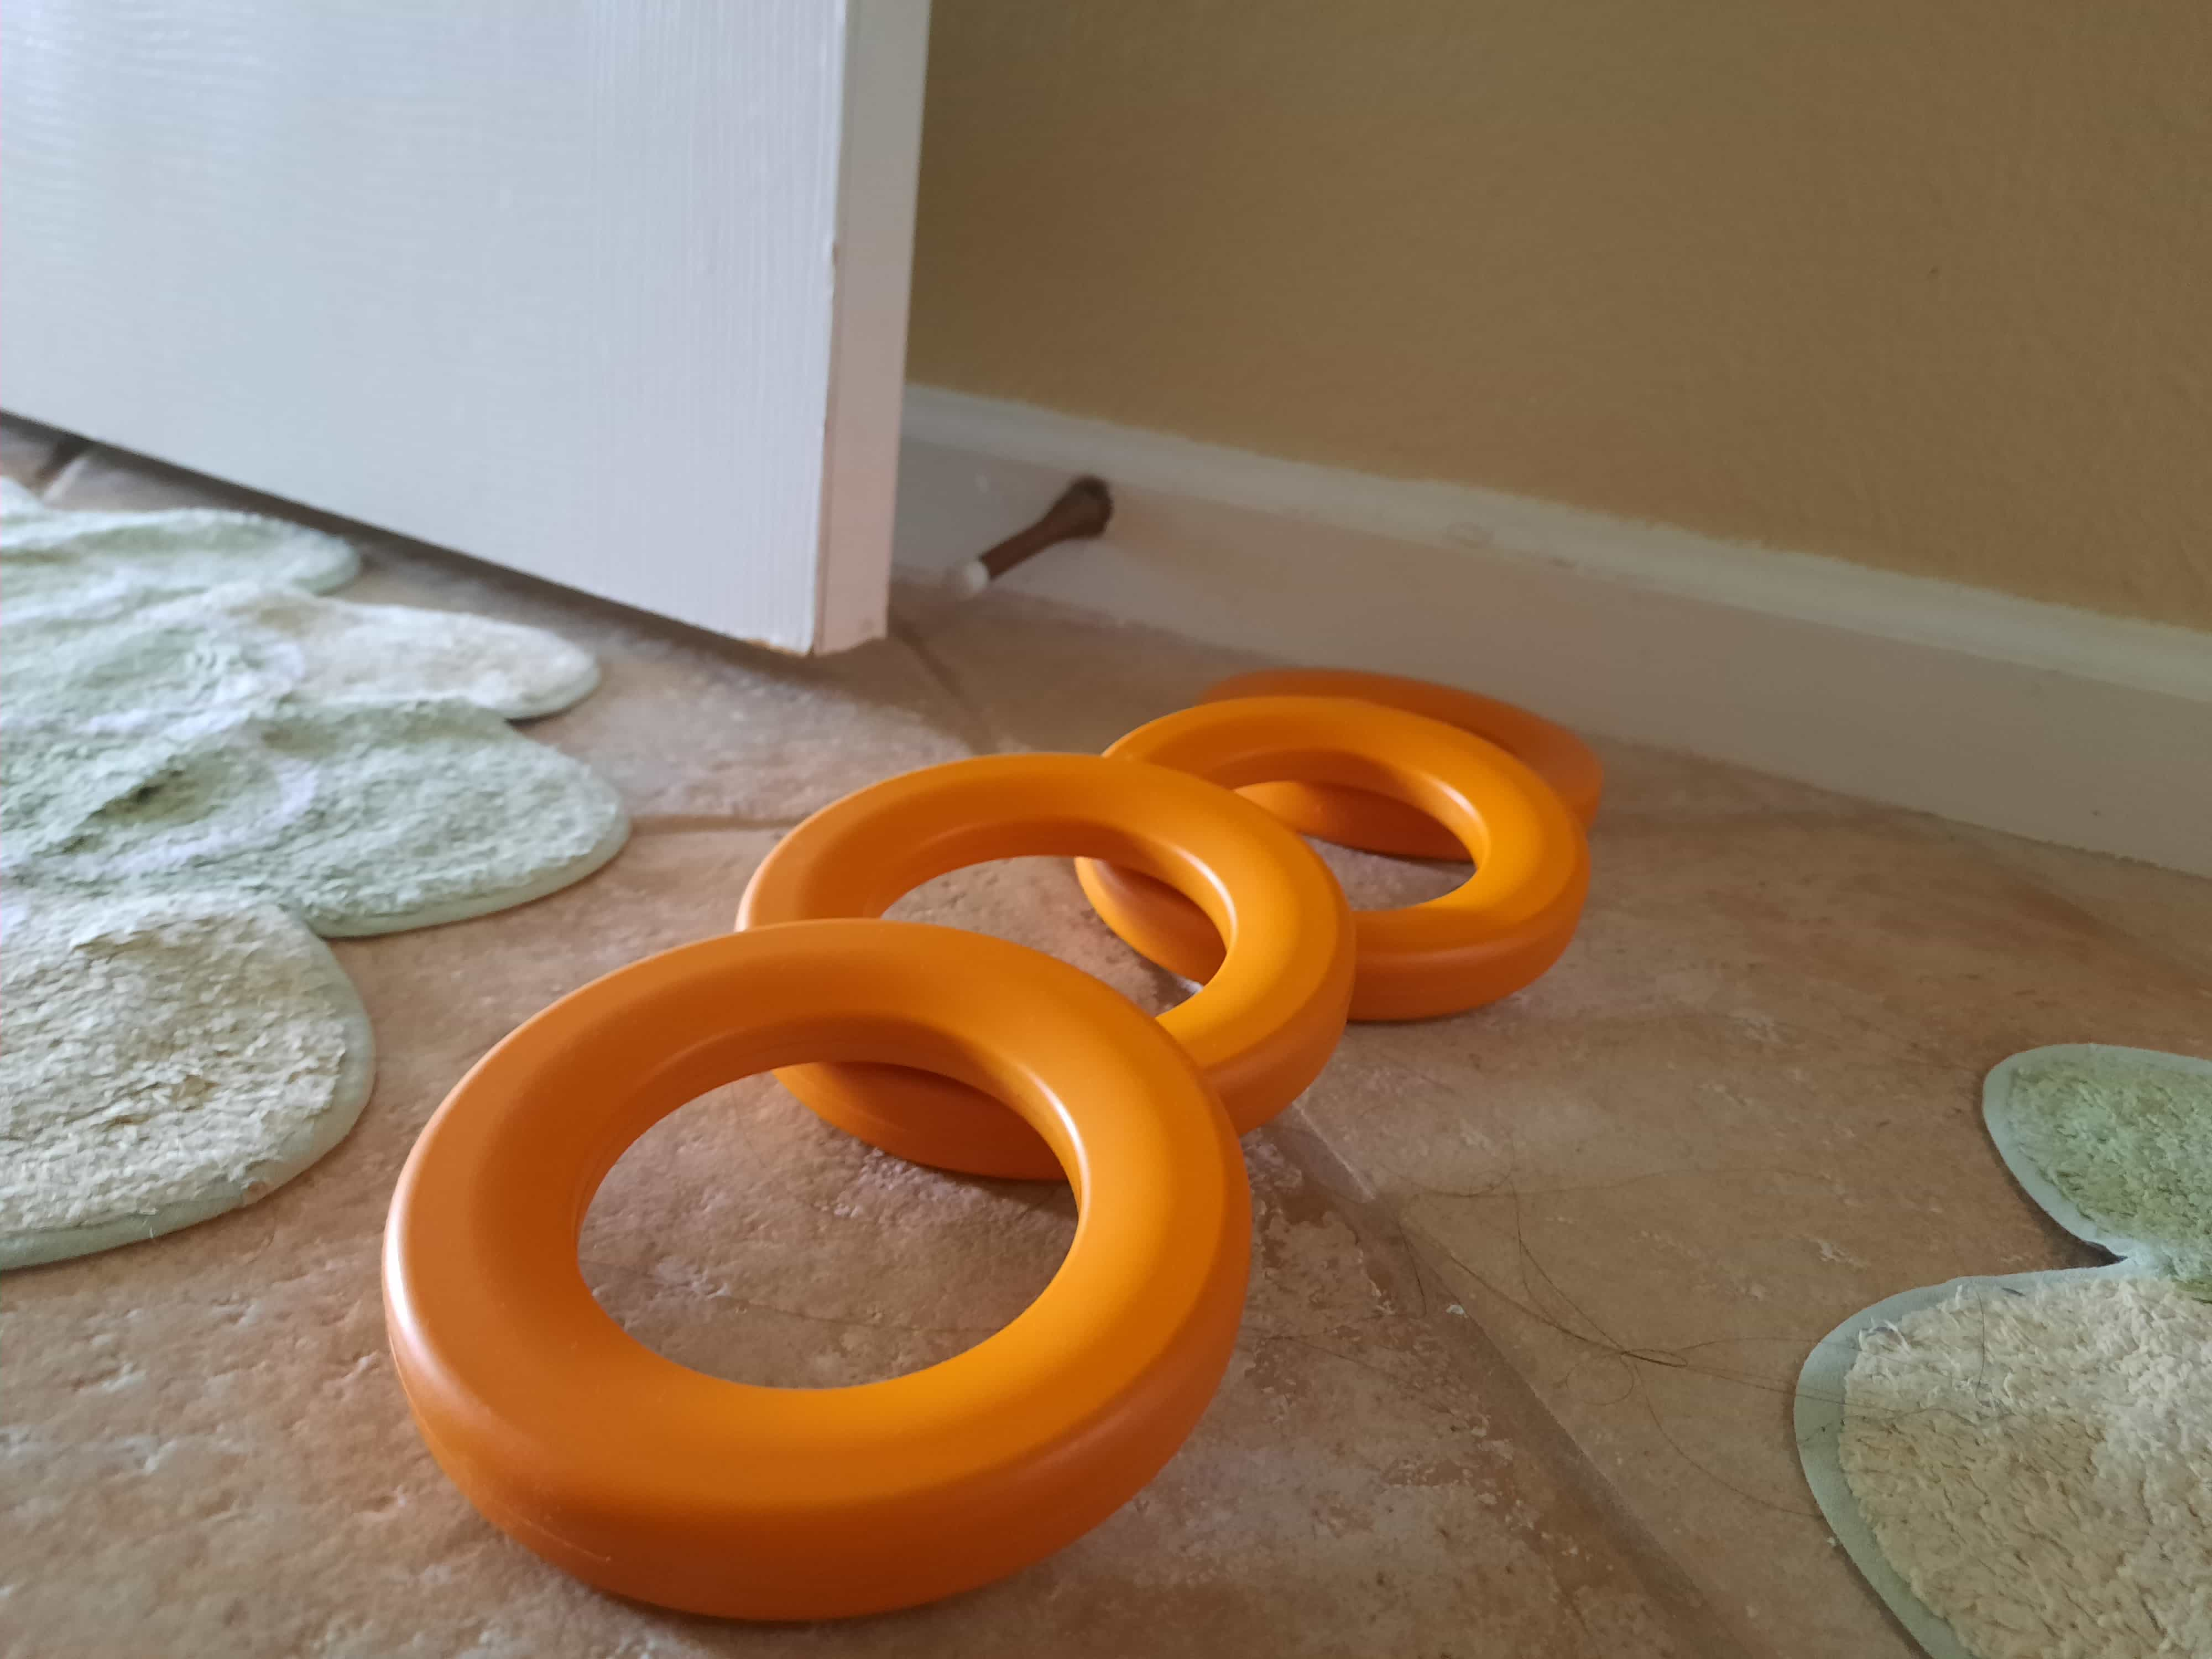OneStack: (388, 918, 1245, 1601), (752, 751, 1346, 1147), (1101, 694, 1604, 1065), (1228, 652, 1609, 819)
